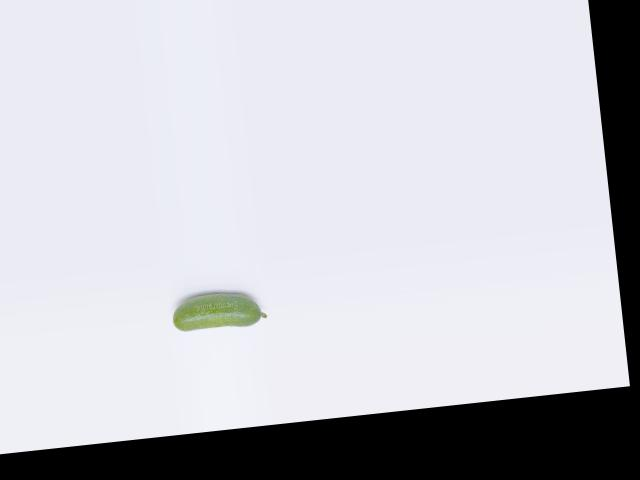cucumber: (169, 287, 267, 333)
